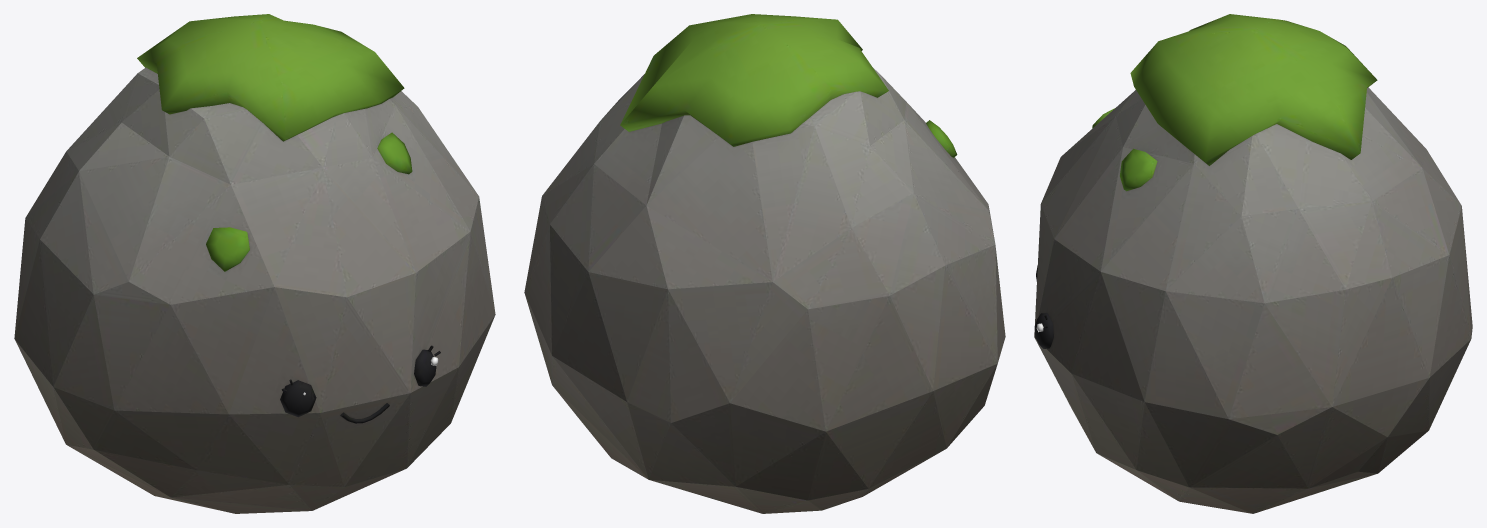
Rendered from rock_grey_2_mid.glb.
3 views of the same model, side by side, from view 1: azimuth 30°, elevation 25°; view 2: azimuth 150°, elevation 25°; view 3: azimuth 270°, elevation 25° (orthographic). The views are drawn at different scales.
Visible parts, largest first — view 1: rock_grey_2; view 2: rock_grey_2; view 3: rock_grey_2.
Part boxes in pixels (x1,y1,x2,y2): rock_grey_2: [14, 14, 495, 513]; rock_grey_2: [524, 14, 1005, 513]; rock_grey_2: [1034, 14, 1472, 513].
Bounding box in the file's own units: 0.6054 × 0.625 × 0.5467.
1 material, 1 textured.
